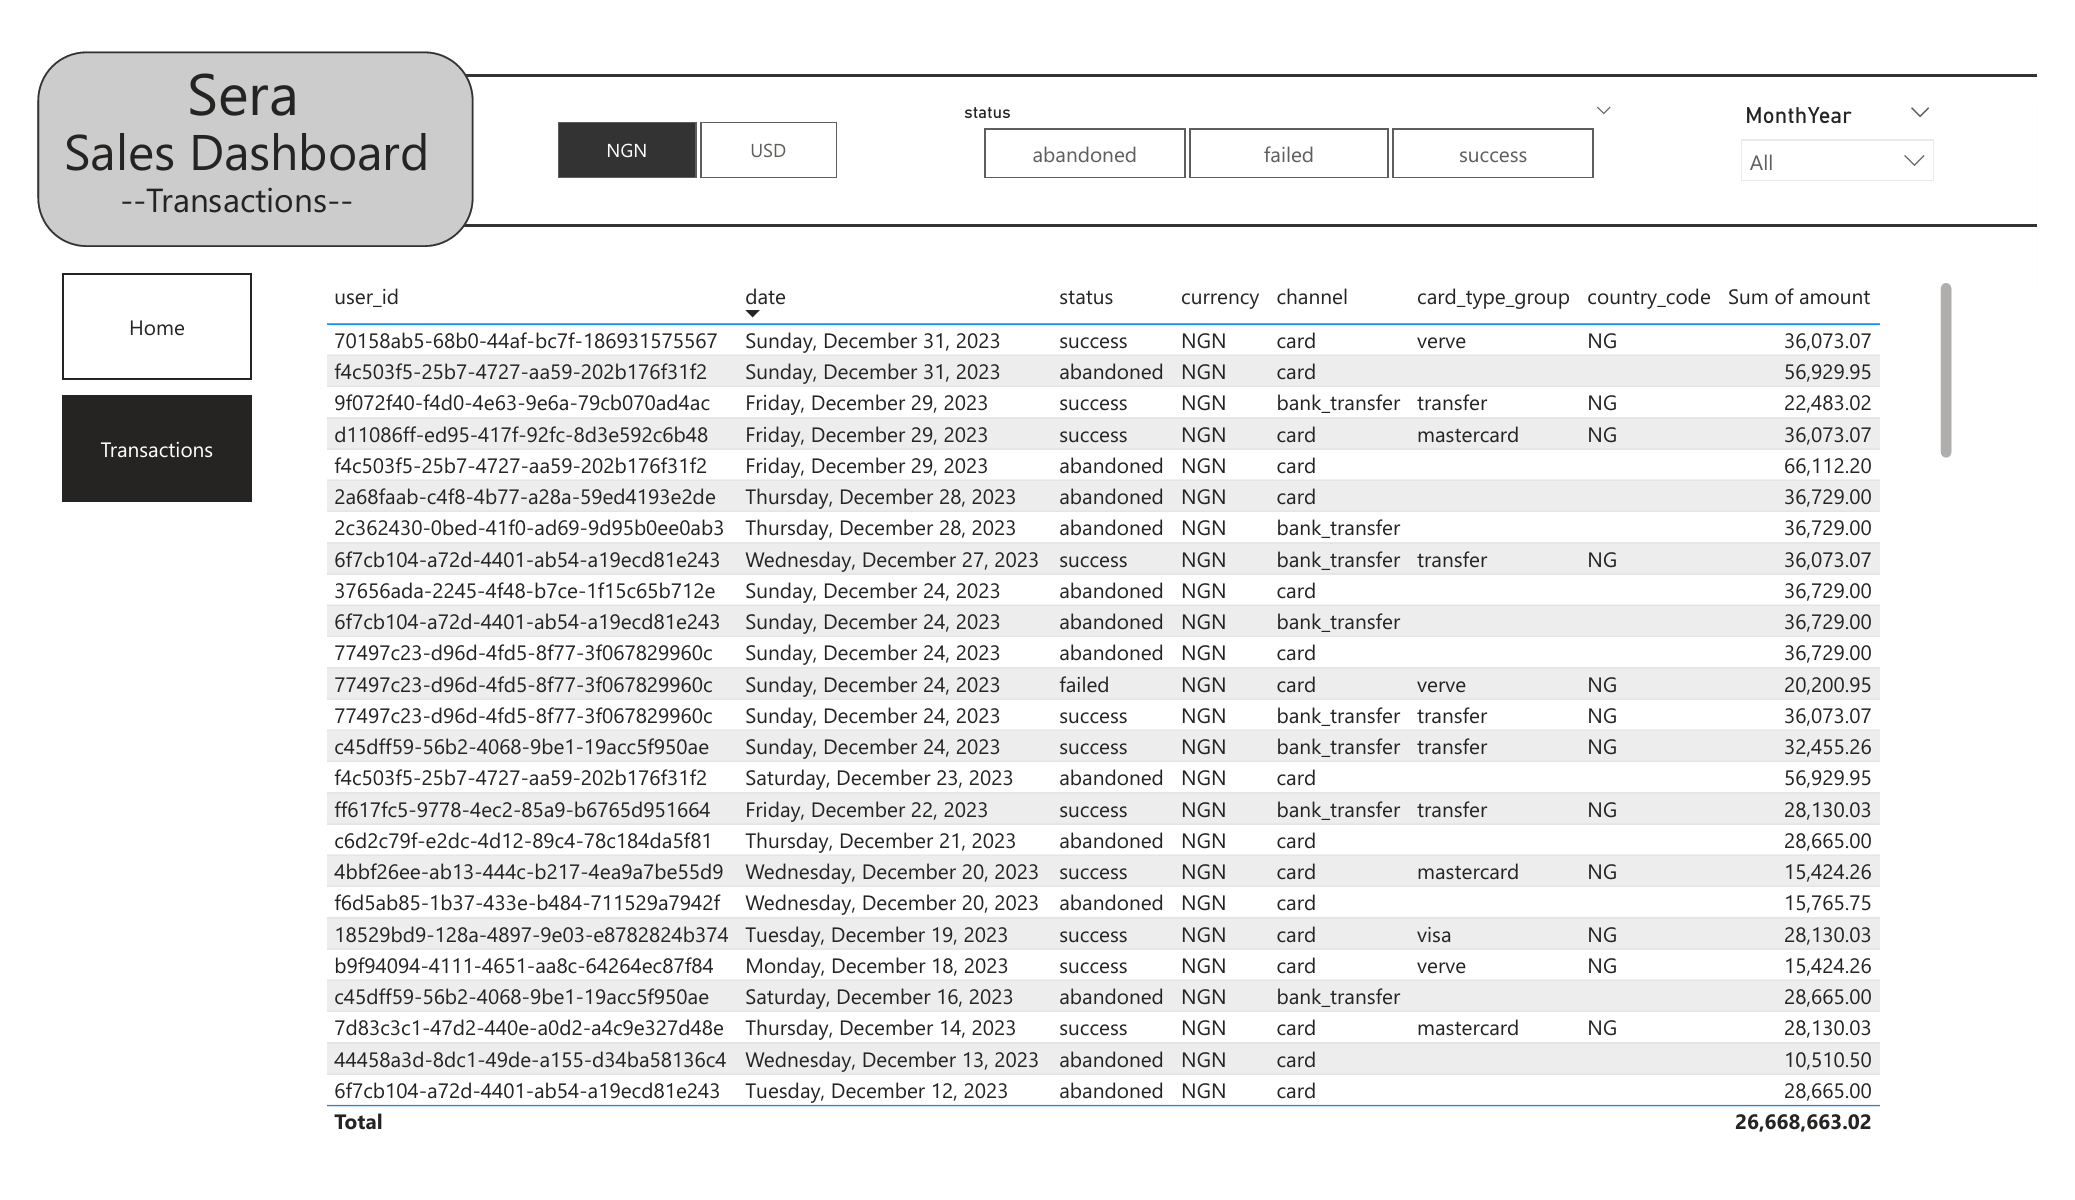

This screenshot's page, from the dashboard's own definition file:
{"tool":"powerbi","page":{"name":"Transactions","canvas":[1280,720],"ordinal":1},"visuals":[{"type":"tableEx","fields":{"Values":["sera.user_id","sera.date","sera.status","sera.currency","sera.channel","sera.card_type_group","sera.country_code","Sum(sera.amount)"]},"box":[178.6,151.2,1052.6,557.3],"z":0},{"type":"slicer","fields":{"Values":["sera.currency"]},"box":[307.1,47,229.2,50],"z":1000},{"type":"slicer","fields":{"Values":["sera.status"]},"box":[580.4,36.7,439.3,60.2],"z":2000},{"type":"slicer","fields":{"Values":["date_table.MonthYear"]},"box":[1080,36.7,144,60.2],"z":3000},{"type":"pageNavigator","box":[15.8,151.2,121,145.4],"z":4000},{"type":"shape","box":[0,8.7,279.4,125.3],"z":5000,"group":"g2"},{"type":"shape","box":[269.3,0,1010.9,49],"z":6000},{"type":"textbox","box":[91.6,4.8,98.4,80.8],"z":7000,"group":"g1"},{"type":"textbox","box":[12.3,45.2,263.5,63.4],"z":8000,"group":"g1"},{"type":"shape","box":[269.1,0,1010.9,49],"z":9000},{"type":"shape","box":[269.3,96.5,1010.9,49],"z":10000},{"type":"textbox","box":[48.3,83.6,185.8,41.8],"z":11000,"group":"g1"},{"type":"group","id":"g1","title":"Title text","box":[12.3,4.8,263.5,120.5],"z":11001,"group":"g2"},{"type":"group","id":"g2","title":"Dashboard title ","box":[0,4.8,279.4,129.2],"z":11002}]}

Visuals, with their boxes on the page's 1280x720 design canvas (x1, y1, x2, y2). These are canvas units, not pixel positions in the 2075x1200 screenshot, which may show the page scaled, cropped or inside an application window:
tableEx - sera.user_id x sera.date: x1=179, y1=151, x2=1231, y2=708
slicer - sera.currency: x1=307, y1=47, x2=536, y2=97
slicer - sera.status: x1=580, y1=37, x2=1020, y2=97
slicer - date_table.MonthYear: x1=1080, y1=37, x2=1224, y2=97
pageNavigator: x1=16, y1=151, x2=137, y2=297
shape: x1=0, y1=9, x2=279, y2=134
shape: x1=269, y1=0, x2=1280, y2=49
textbox: x1=92, y1=5, x2=190, y2=86
textbox: x1=12, y1=45, x2=276, y2=109
shape: x1=269, y1=0, x2=1280, y2=49
shape: x1=269, y1=96, x2=1280, y2=146
textbox: x1=48, y1=84, x2=234, y2=125
"Title text" group: x1=12, y1=5, x2=276, y2=125
"Dashboard title " group: x1=0, y1=5, x2=279, y2=134
